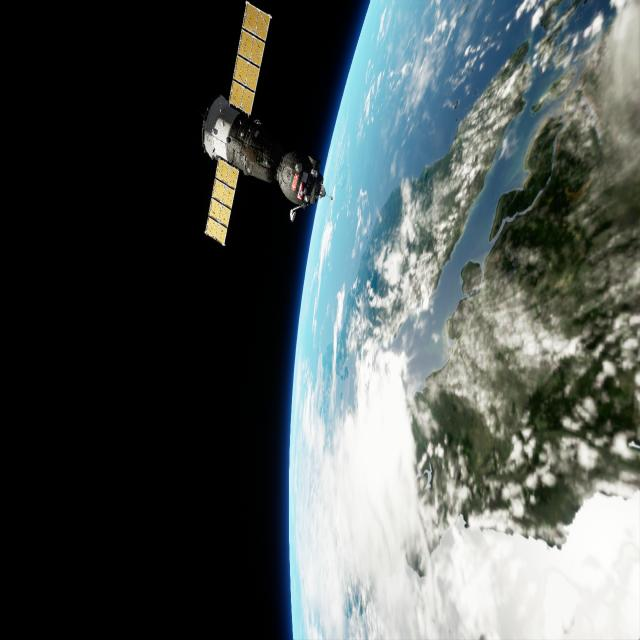Satellites revolving around earth: (286, 1, 638, 638)
